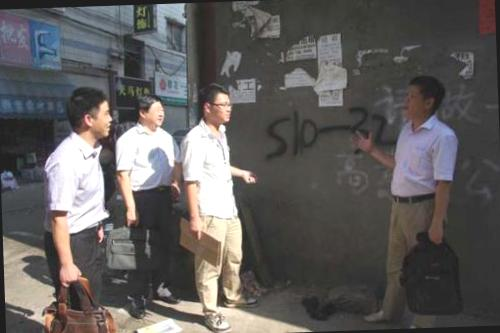no_helmet: (63, 80, 114, 145), (399, 71, 448, 124), (196, 77, 236, 124), (136, 91, 167, 129)
